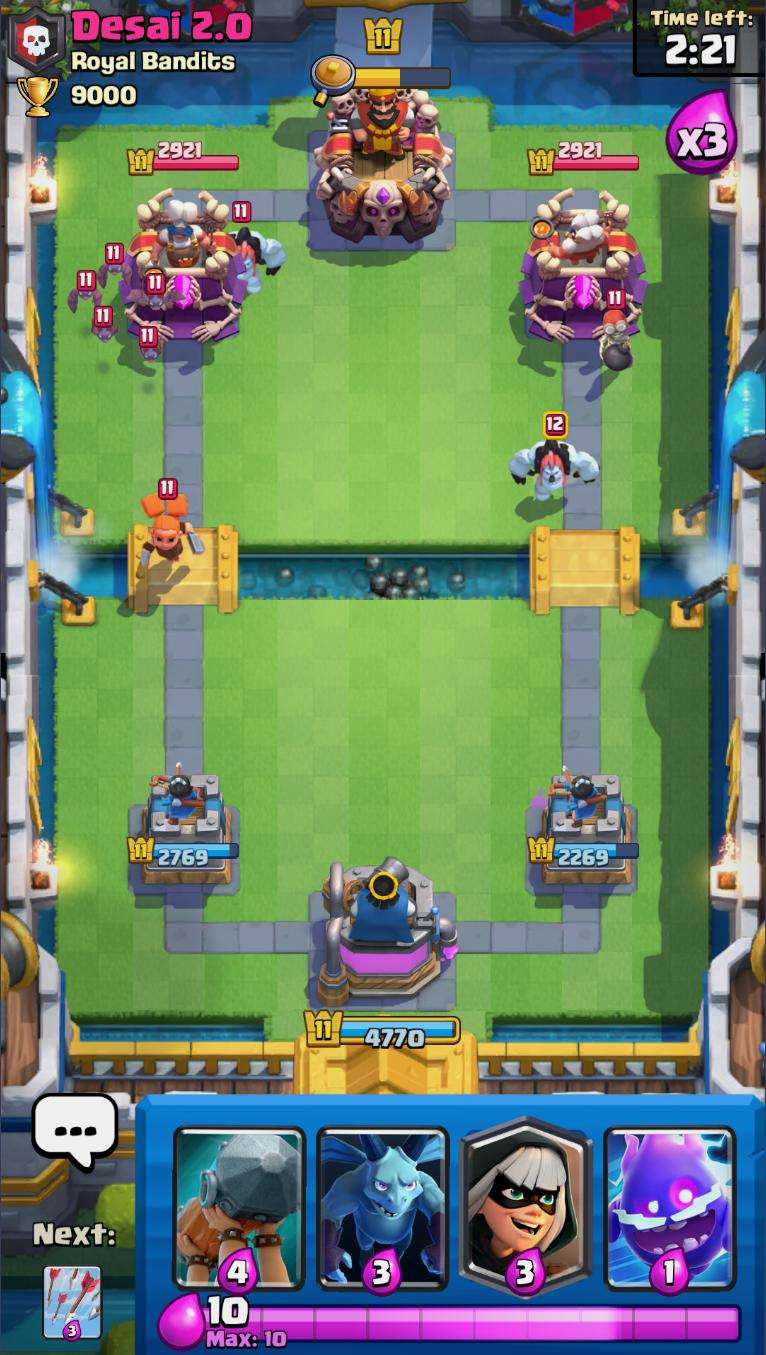ArrowNext: (41, 1261, 104, 1343)
BanditDeck: (453, 1100, 599, 1300)
Bat: (134, 274, 187, 314), (96, 243, 136, 286), (65, 271, 106, 311), (136, 325, 165, 365), (89, 304, 119, 342)
BattleRamDeck: (167, 1097, 313, 1290)
Berserker: (138, 478, 205, 576)
Bomber: (597, 290, 636, 371)
Chef: (147, 199, 220, 270), (540, 204, 614, 269)
ElectroSpiritDeck: (599, 1100, 744, 1297)
EnemyTower: (119, 189, 249, 344), (520, 189, 649, 343)
IceGolem: (507, 413, 599, 507), (225, 201, 284, 296)
KingTower: (314, 84, 456, 244)
MinionsDeck: (310, 1100, 456, 1296)
MyKingHP: (301, 1004, 463, 1053)
MyKingTower: (311, 853, 461, 1009)
MyPrincessTower: (127, 774, 240, 889), (529, 774, 641, 890)
MyPrincessTowerHP: (126, 833, 241, 869), (529, 833, 641, 867)
TowerPrincessHP: (529, 141, 641, 177), (129, 141, 241, 174)
